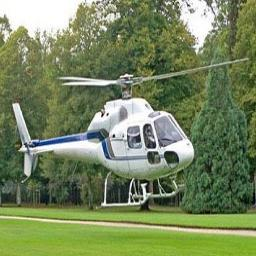helicopter: (12, 55, 250, 213)
